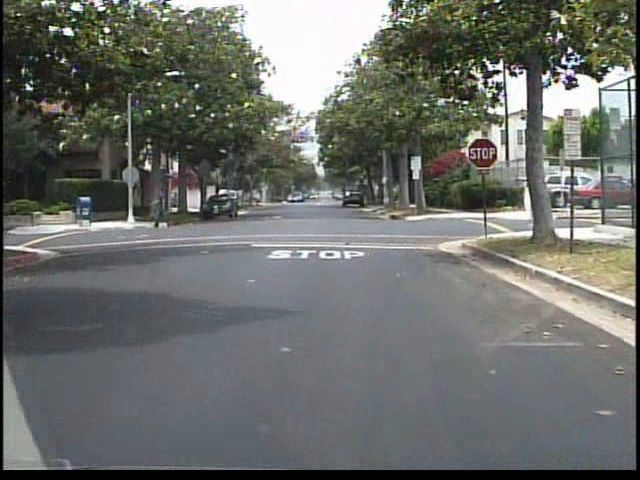person: (150, 180, 174, 231)
